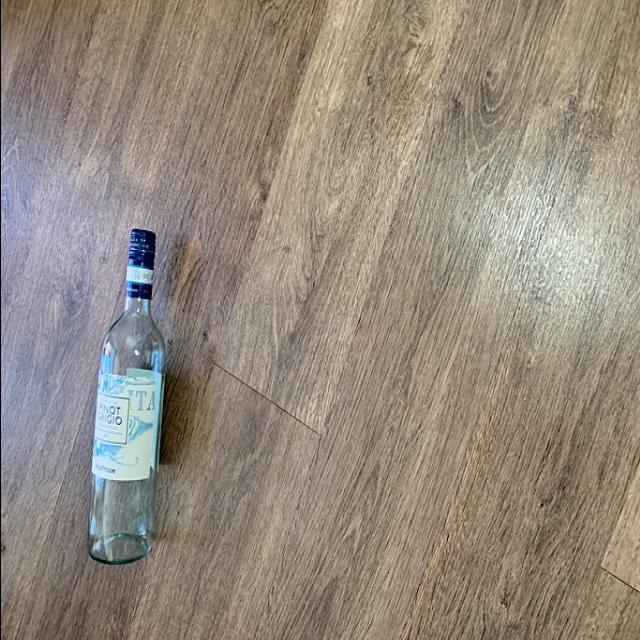Glass Bottle: (80, 208, 166, 572)
